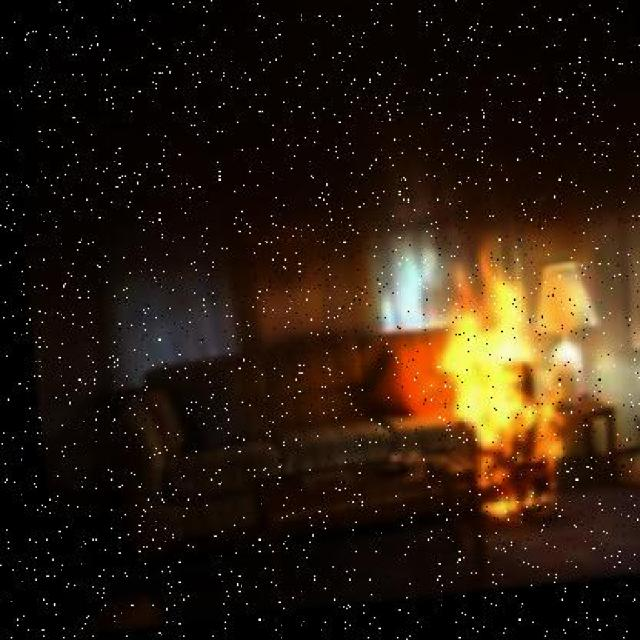fire: (422, 268, 562, 537)
